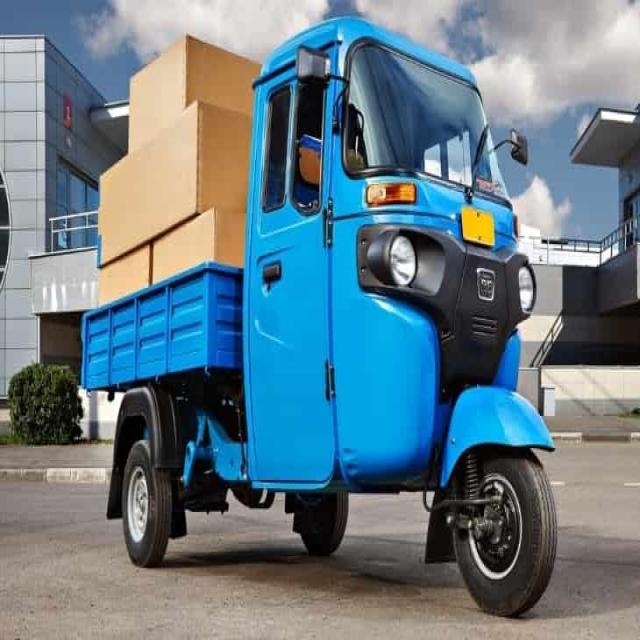autorickshaw: (81, 19, 556, 616)
